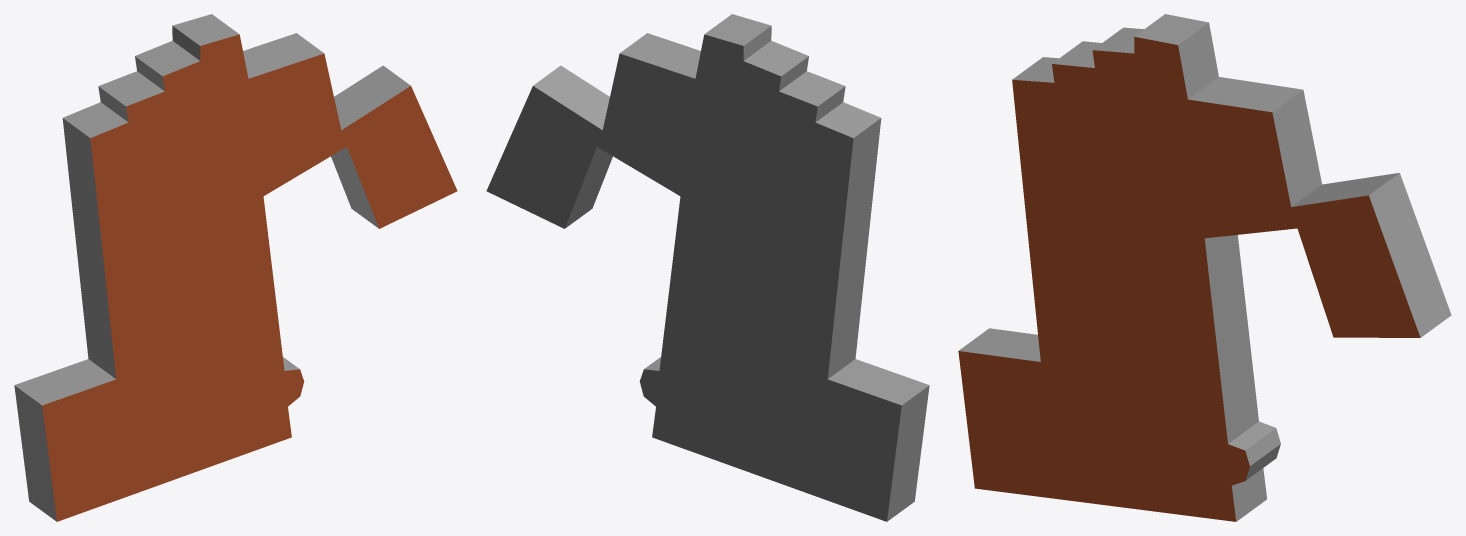
Rendered from construction_3124_assumed_A_Casa_h6m.obj.
3 renders of one model, left to right at view 1: azimuth 30°, elevation 25°; view 2: azimuth 150°, elevation 25°; view 3: azimuth 330°, elevation 25°, orthographic. The views are drawn at different scales.
Parts seen in each view (by area): view 1: construction_3124_assumed_A_Casa; view 2: construction_3124_assumed_A_Casa; view 3: construction_3124_assumed_A_Casa.
Part boxes in pixels (<box>): construction_3124_assumed_A_Casa: <box>14,14,457,521</box>; construction_3124_assumed_A_Casa: <box>486,14,929,521</box>; construction_3124_assumed_A_Casa: <box>958,14,1451,521</box>.
Bounding box in the file's own units: 51.67 × 52.66 × 6.
